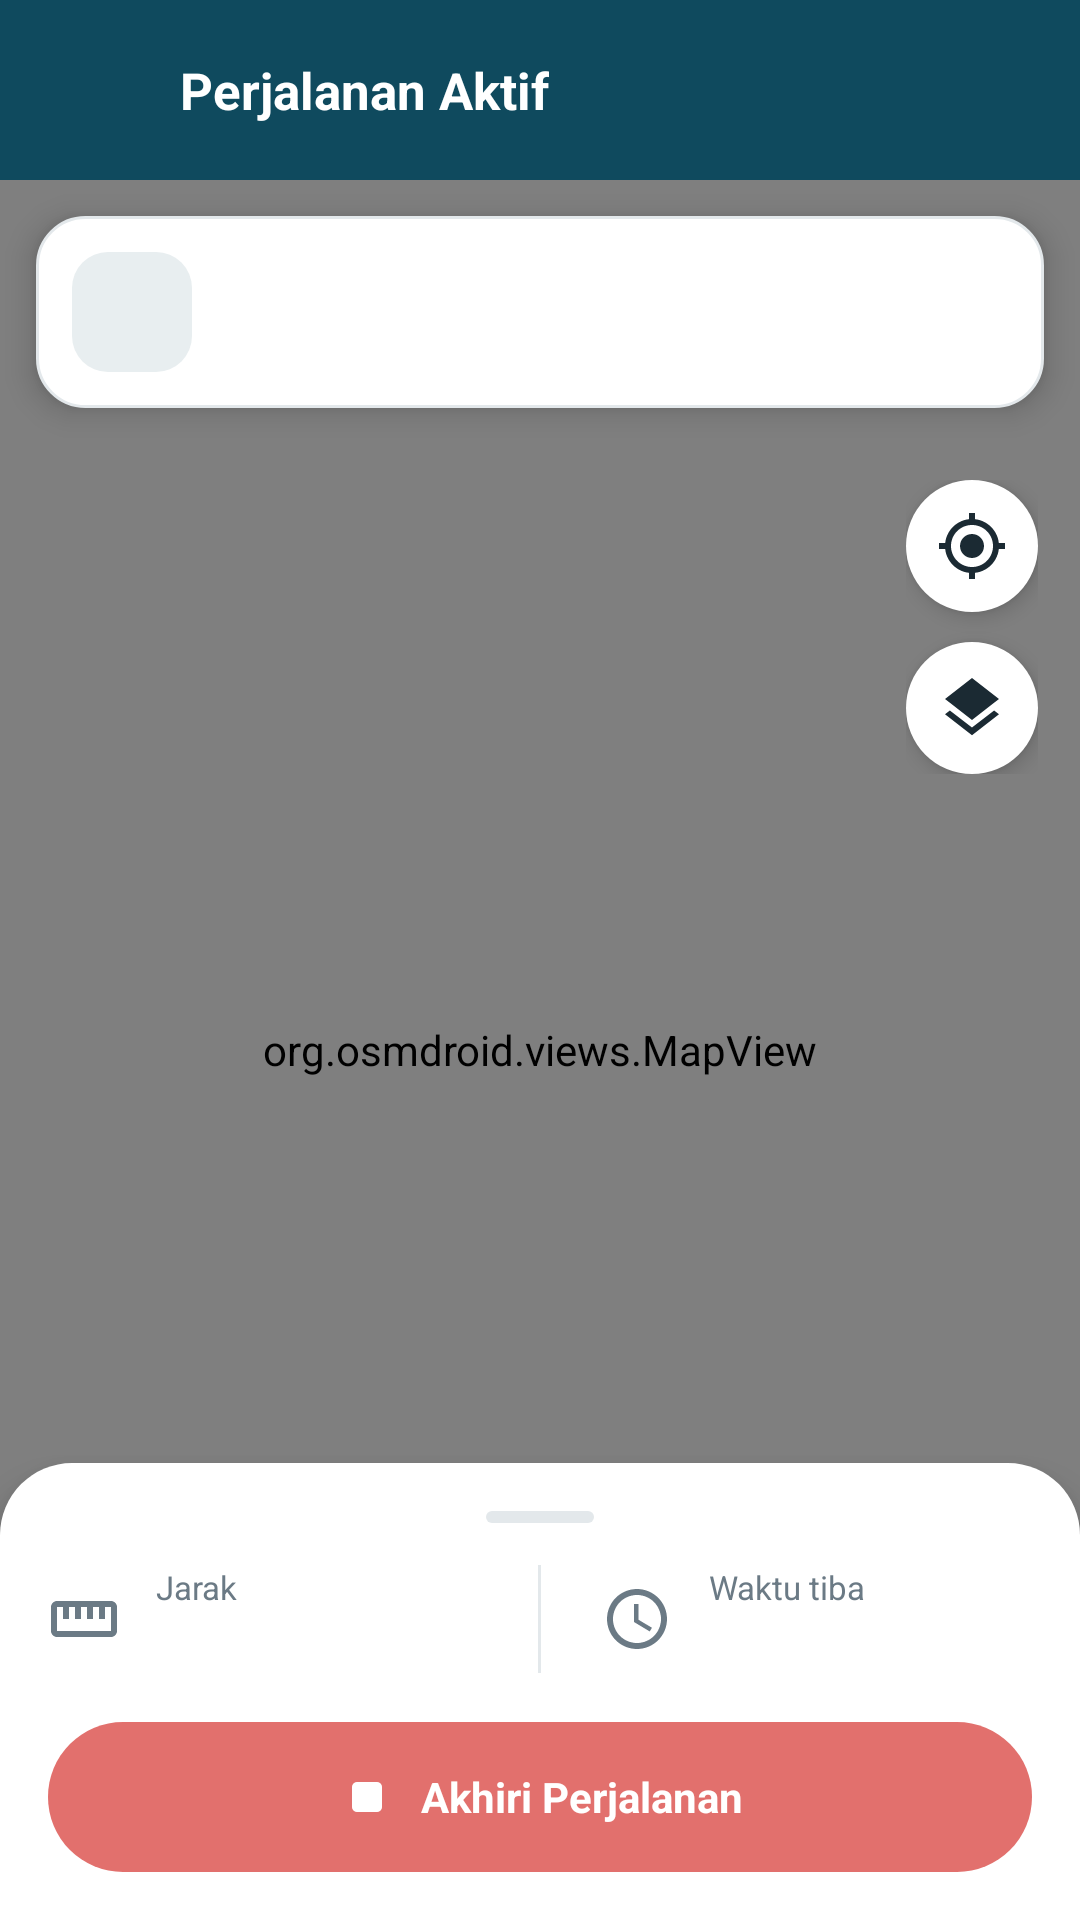

Screen size 1080px×1920px. Icon name, then its box in pixels as (x1, y1, x2, y2):
clock: (607, 1589, 667, 1649)
layers: (906, 642, 1038, 774)
location: (906, 480, 1038, 612)
stop: (352, 1782, 382, 1812)
straighten: (51, 1601, 117, 1637)
